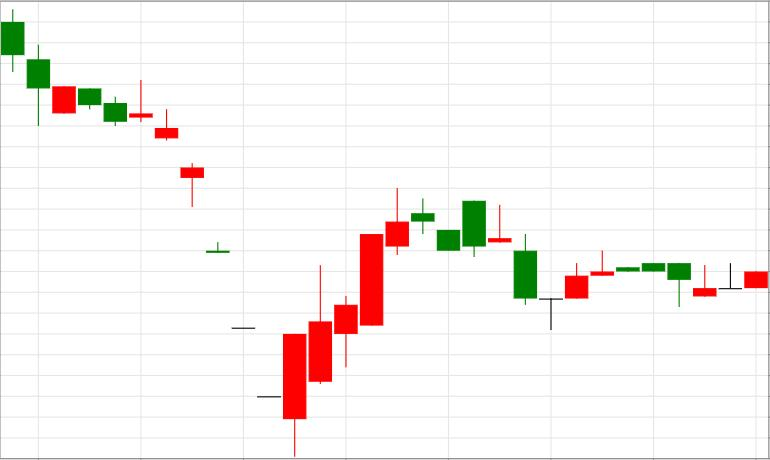morning_star_rise: (411, 198, 588, 330)
shooting_star_fall: (283, 188, 409, 458)
